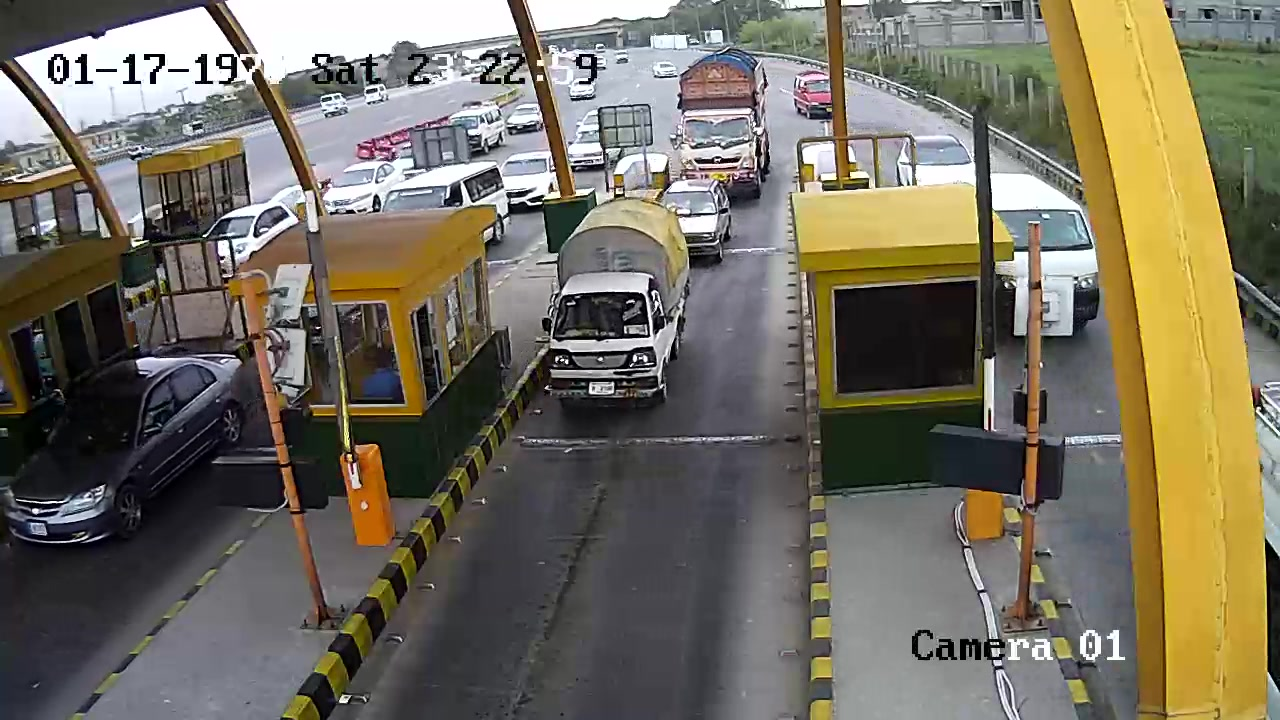F1: (550, 201, 688, 414)
